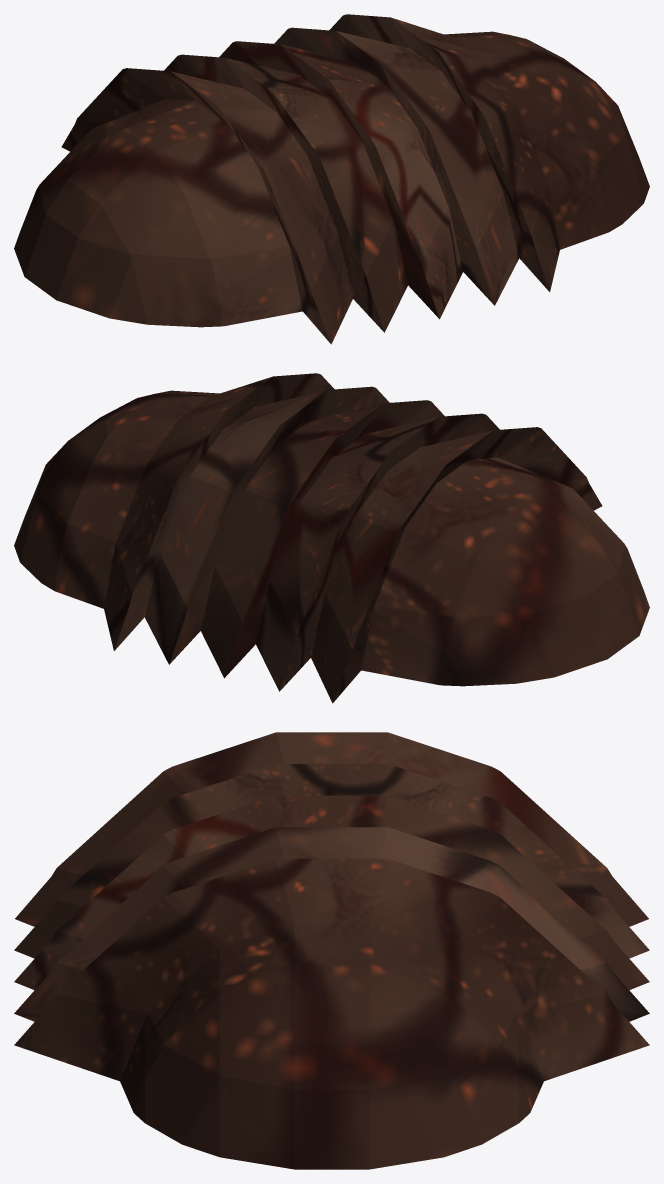
File: Skitter.glb
3 renders of one model, top to bottom at view 1: azimuth 30°, elevation 25°; view 2: azimuth 150°, elevation 25°; view 3: azimuth 270°, elevation 25°, orthographic. The views are drawn at different scales.
Visible parts, largest first — view 1: Mball.001; view 2: Mball.001; view 3: Mball.001.
Part boxes in pixels (x1,y1,x2,y2): Mball.001: (14,14,649,344); Mball.001: (14,373,649,703); Mball.001: (14,732,649,1169).
Bounding box in the file's own units: 4.23 × 1.13 × 3.4.
1 material, 1 textured.
